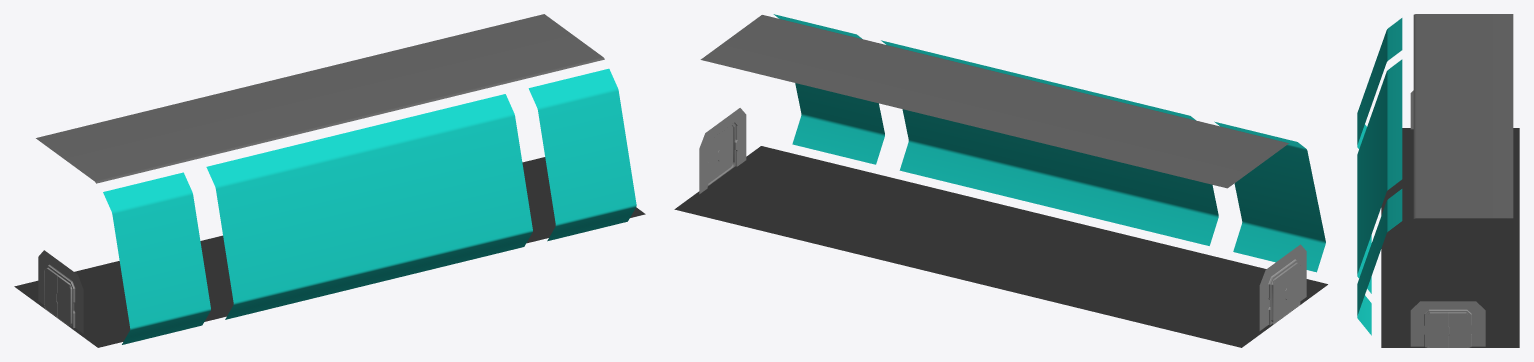
Rendered from 0-2other.fbx.
3 views of the same model, side by side, from view 1: azimuth 30°, elevation 25°; view 2: azimuth 150°, elevation 25°; view 3: azimuth 270°, elevation 25° (orthographic). The views are drawn at different scales.
Visible parts, largest first — view 1: window, ceiling, floor, DoorWall, corridorDoorRight01, corriodrDoorLeft01; view 2: floor, window, ceiling, DoorWall, corridorDoorRight01, corriodrDoorLeft01, corridorDoorRight02; view 3: ceiling, floor, window, DoorWall, corridorDoorRight02, corriodrDoorLeft02.
Part boxes in pixels (x1,y1,x2,y2): window: (103, 68, 636, 344); ceiling: (36, 14, 604, 183); floor: (14, 157, 645, 347); DoorWall: (38, 250, 83, 333); corridorDoorRight01: (56, 276, 70, 327); corriodrDoorLeft01: (44, 267, 57, 317); floor: (674, 146, 1327, 347); window: (773, 14, 1325, 272); ceiling: (700, 15, 1289, 188); DoorWall: (699, 108, 1306, 330); corridorDoorRight01: (1286, 261, 1300, 314); corriodrDoorLeft01: (1273, 271, 1286, 324); corridorDoorRight02: (718, 125, 732, 175); ceiling: (1413, 14, 1513, 218); floor: (1381, 128, 1519, 347); window: (1357, 18, 1402, 335); DoorWall: (1410, 90, 1485, 347); corridorDoorRight02: (1426, 313, 1449, 347); corriodrDoorLeft02: (1448, 313, 1469, 347).
Bounding box in the file's own units: 3125 × 800 × 974.
